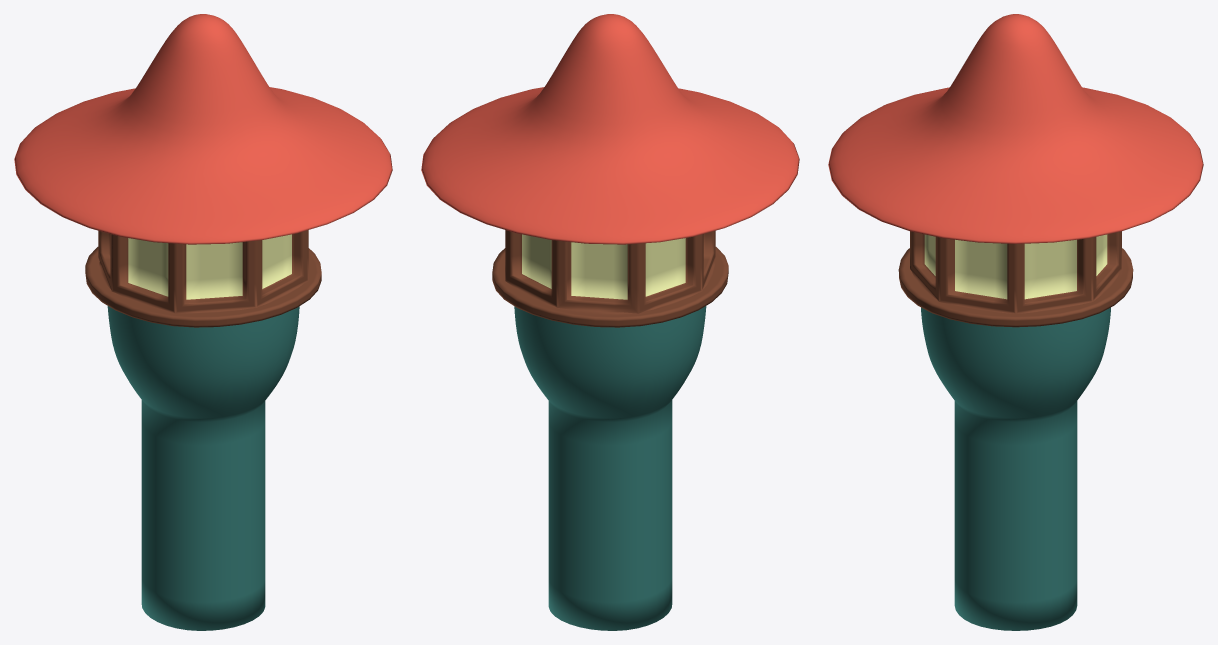
File: testmodelsCube_075.fbx
3 views of the same model, side by side, from view 1: azimuth 30°, elevation 25°; view 2: azimuth 150°, elevation 25°; view 3: azimuth 270°, elevation 25° (orthographic).
Parts seen in each view (by area): view 1: Cube.075; view 2: Cube.075; view 3: Cube.075.
Part boxes in pixels (<box>): Cube.075: <box>14,14,392,630</box>; Cube.075: <box>421,14,799,630</box>; Cube.075: <box>828,14,1203,630</box>.
Size of the model in its own units: 805 by 1392 by 805.
